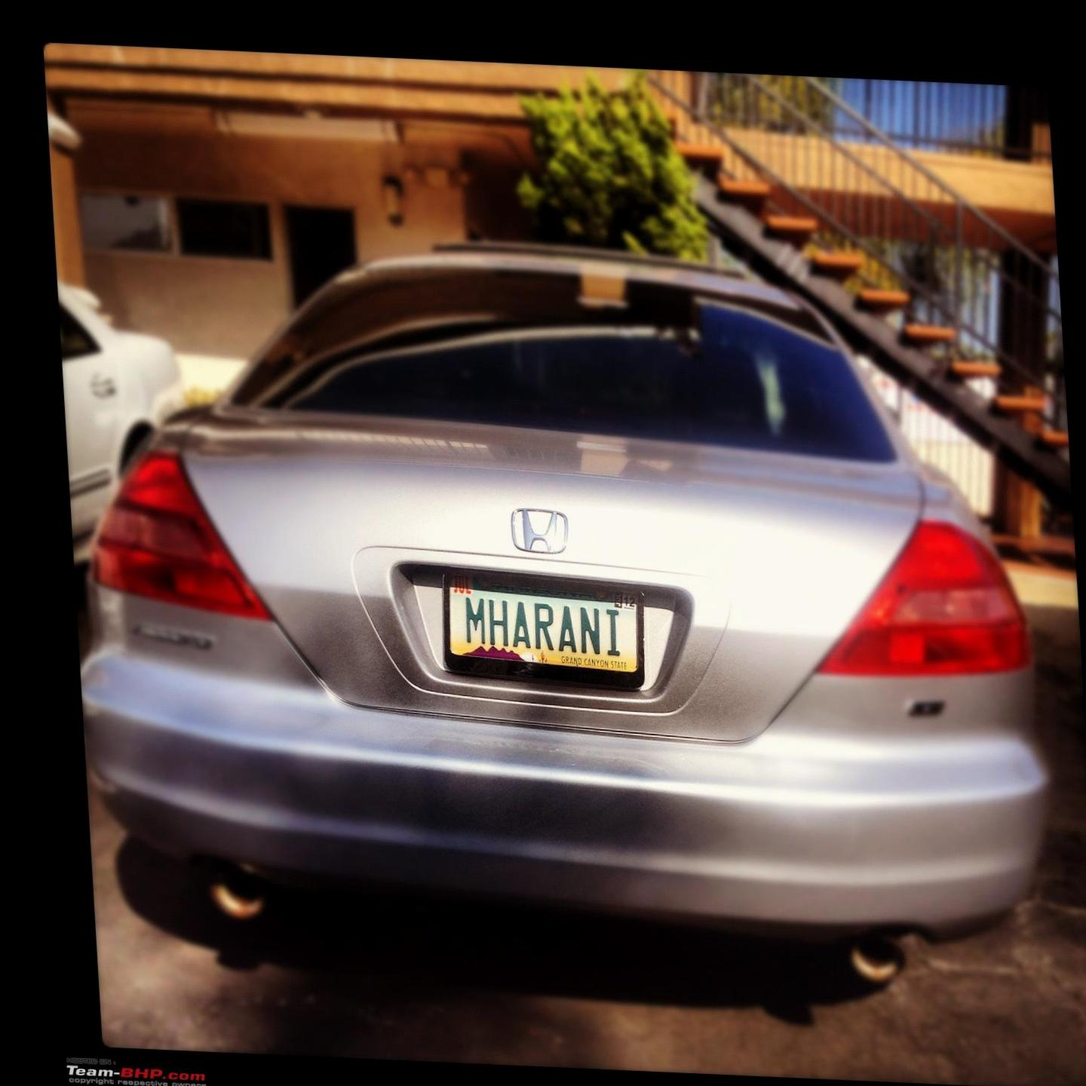License_Plate: (426, 548, 673, 708)
